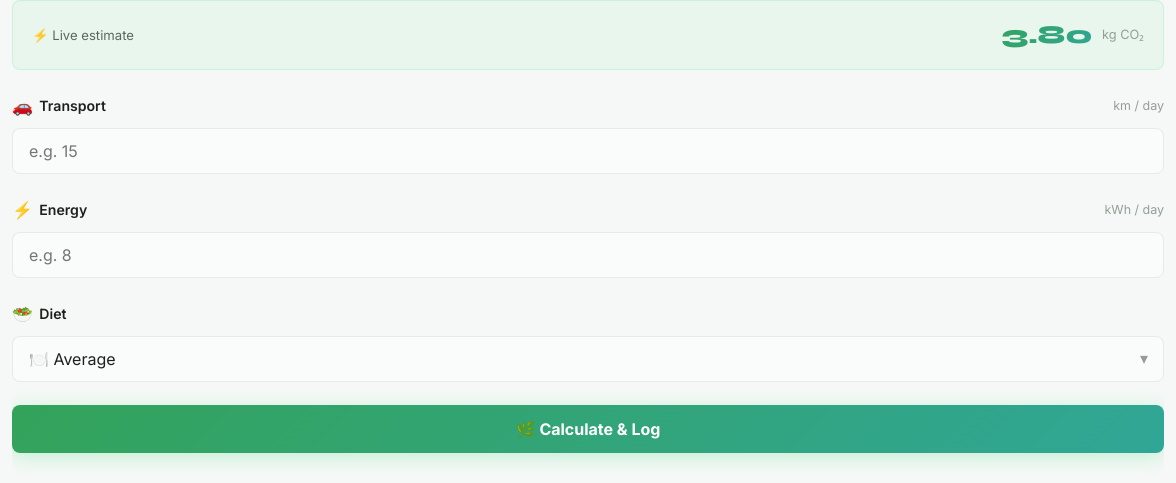
Scenario: FootprintForm › updates live preview correctly for vegetarian with no other activity
Expected: the text "3.80" is shown, [1001, 15, 1092, 56]
# Change diet to vegetarian
Select "🥦 Vegetarian" in the dropdown labelled "🥗 Diet" at (588, 359), box [12, 336, 1164, 382]
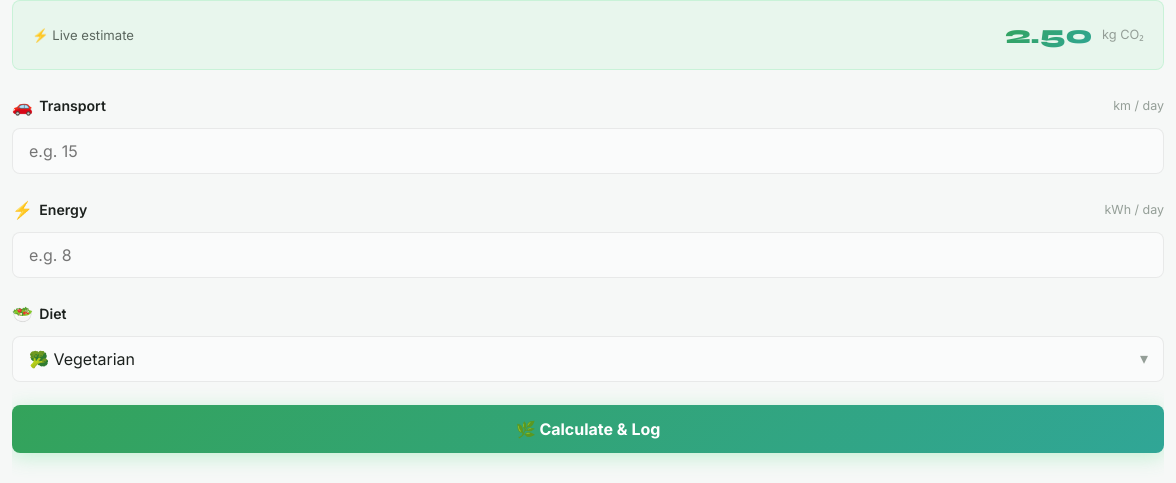
Result: the text "2.50" is shown at [1005, 15, 1092, 56]
